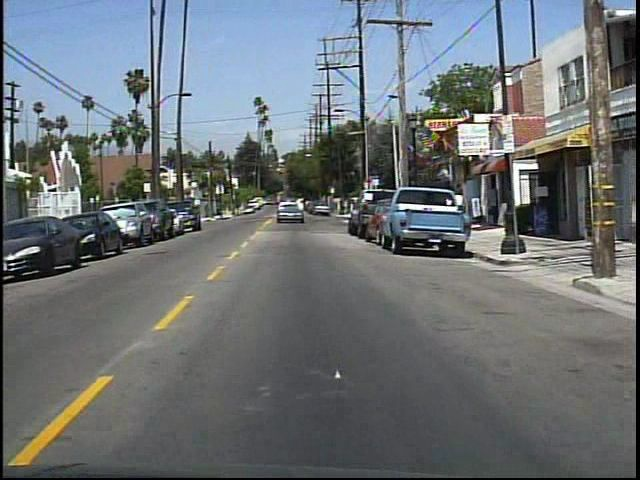person: (449, 187, 470, 232)
